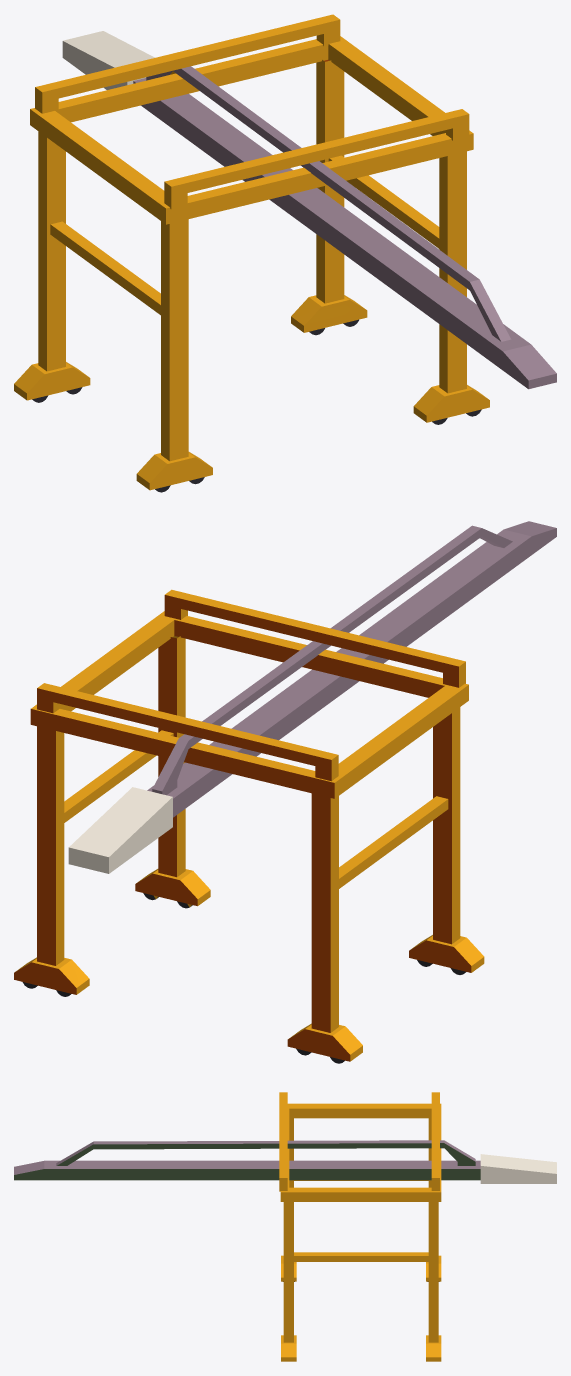
The model's file is CrainBig.fbx.
3 renders of one model, top to bottom at view 1: azimuth 30°, elevation 25°; view 2: azimuth 150°, elevation 25°; view 3: azimuth 270°, elevation 25°, orthographic. The views are drawn at different scales.
Parts seen in each view (by area): view 1: CrainBig; view 2: CrainBig; view 3: CrainBig.
Part boxes in pixels (x1,y1,x2,y2): CrainBig: (14, 14, 556, 492); CrainBig: (14, 521, 556, 1063); CrainBig: (14, 1092, 556, 1361).
Bounding box in the file's own units: 162 × 139 × 378.
